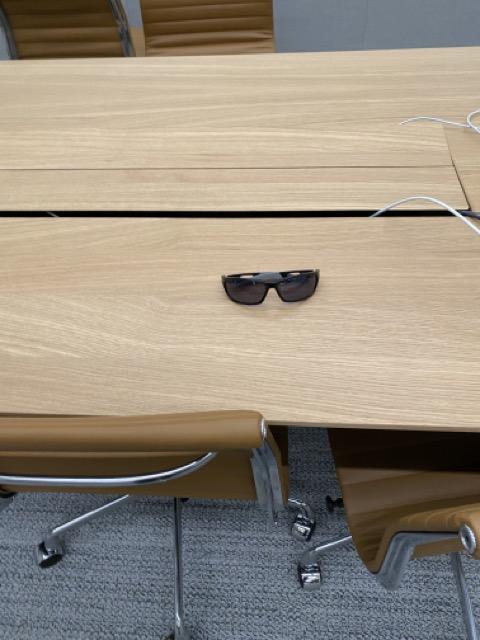Sunglasses: (223, 267, 321, 306)
